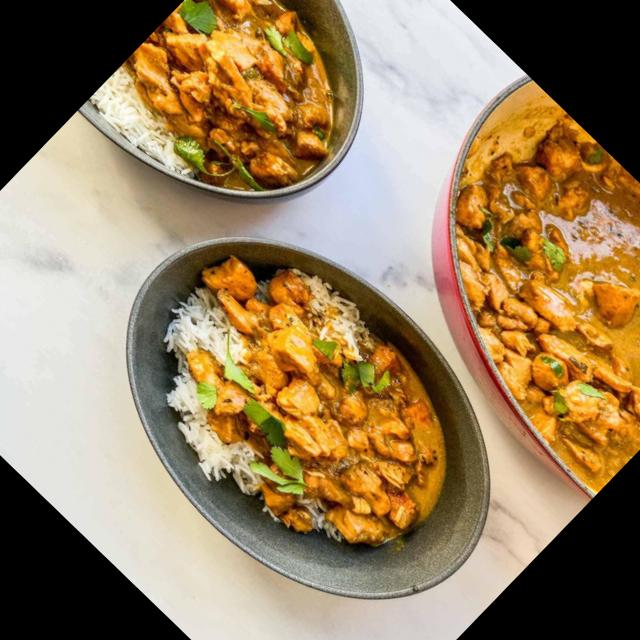chicken: (154, 248, 474, 566), (406, 102, 640, 448), (119, 0, 373, 202)
